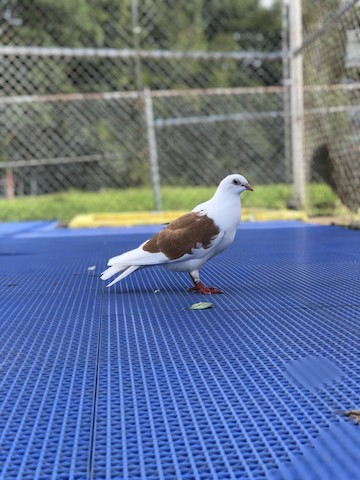pigeon: (98, 167, 257, 302)
